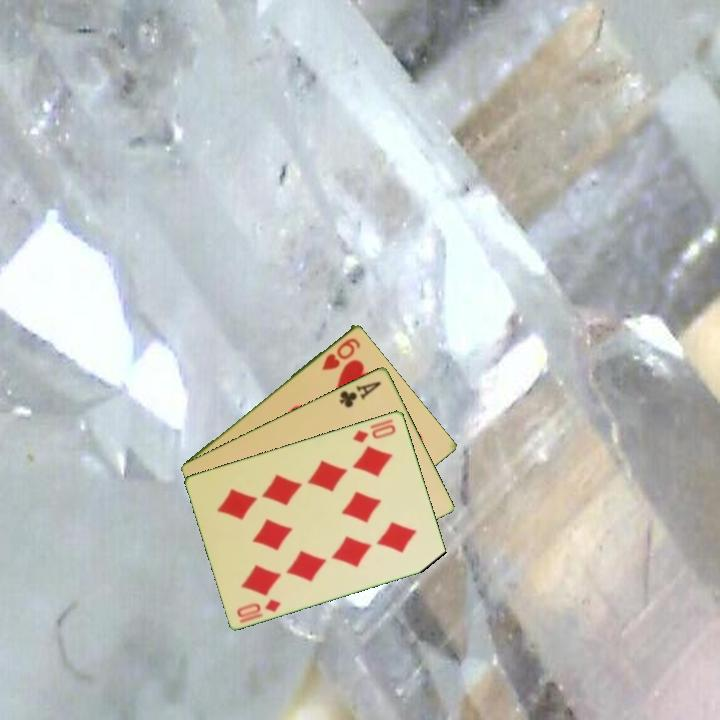10d: (349, 415, 399, 446), (233, 595, 284, 620)
6h: (318, 334, 364, 373)
Ac: (336, 377, 384, 410)
